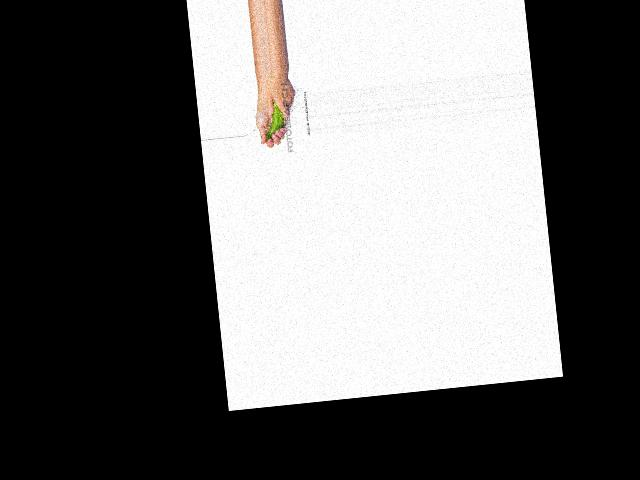cucumber: (262, 99, 286, 140)
